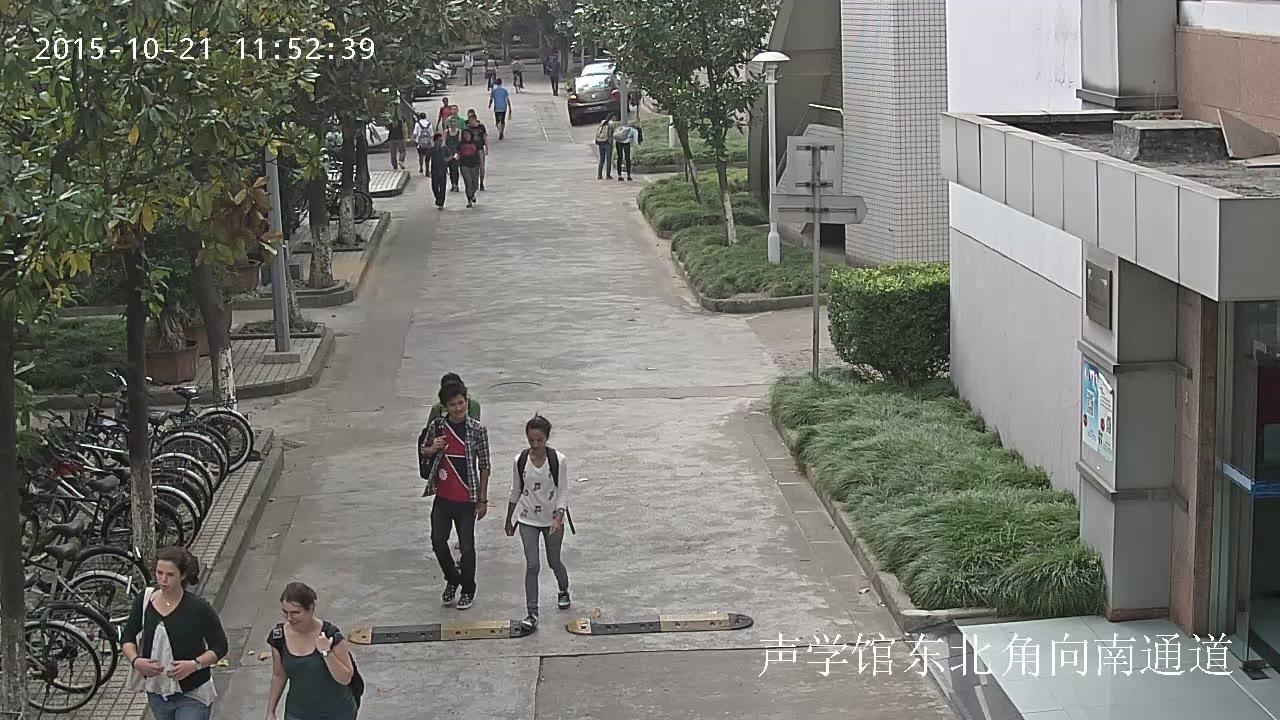person: (121, 545, 228, 720), (416, 381, 491, 610), (503, 414, 578, 629), (262, 580, 366, 720), (424, 133, 451, 210), (455, 127, 479, 207), (466, 117, 489, 191), (593, 112, 616, 180), (615, 124, 642, 181), (489, 77, 511, 142), (412, 112, 434, 175), (445, 118, 462, 192), (385, 108, 405, 168), (435, 96, 453, 132), (547, 60, 564, 95), (461, 48, 475, 87), (447, 105, 464, 129), (486, 56, 498, 89), (513, 58, 525, 91), (513, 58, 525, 90)
